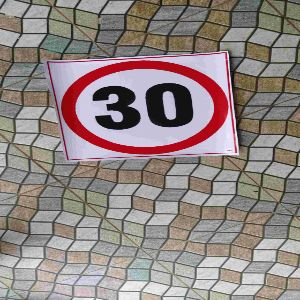speedlimit30: (56, 57, 234, 157)
